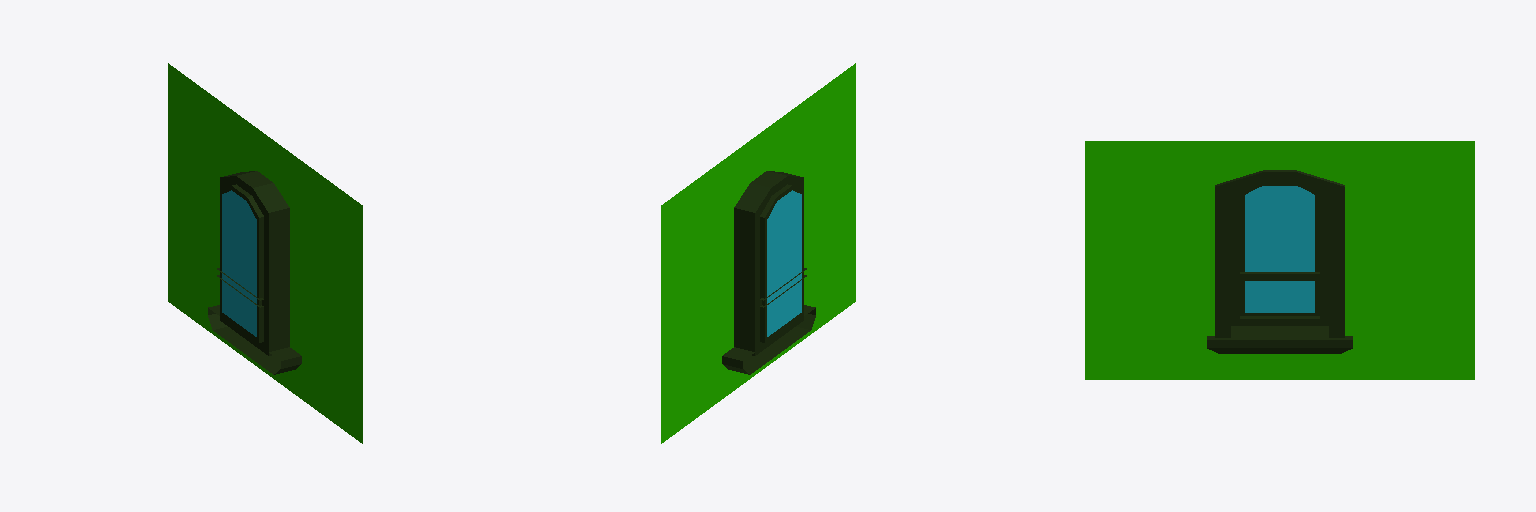
Rendered from NY_wallWindow4.obj.
3 renders of one model, left to right at view 1: azimuth 30°, elevation 25°; view 2: azimuth 150°, elevation 25°; view 3: azimuth 270°, elevation 25°, orthographic.
Parts seen in each view (by area): view 1: wall_low; view 2: wall_low; view 3: wall_low.
Boxes of the visible parts, x1,y1,x2,y2 form: wall_low: [168, 63, 362, 443]; wall_low: [661, 63, 855, 443]; wall_low: [1085, 141, 1474, 379].
Bounding box in the file's own units: 0.32 × 2.03 × 3.01.